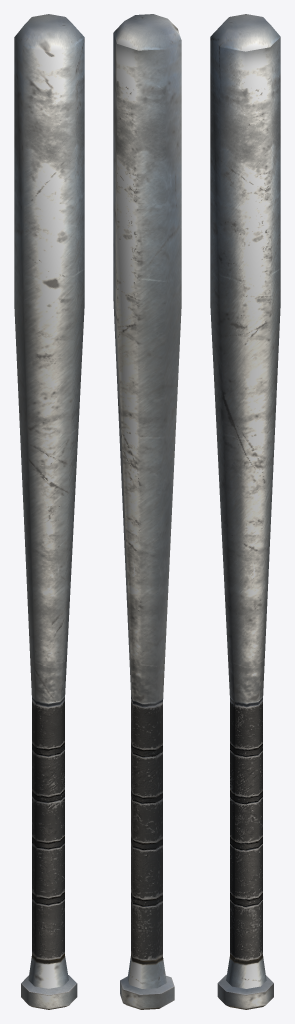
Rendered from Bat.fbx.
3 renders of one model, left to right at view 1: azimuth 90°, elevation 25°; view 2: azimuth 210°, elevation 25°; view 3: azimuth 270°, elevation 25°, orthographic.
Parts seen in each view (by area): view 1: pCylinder1; view 2: pCylinder1; view 3: pCylinder1.
Boxes of the visible parts, left/top/right/bottom form: pCylinder1: left=14, top=14, right=84, bottom=1009; pCylinder1: left=113, top=14, right=181, bottom=1009; pCylinder1: left=210, top=14, right=280, bottom=1009.
Bounding box in the file's own units: 0.067 × 1.03 × 0.067.
